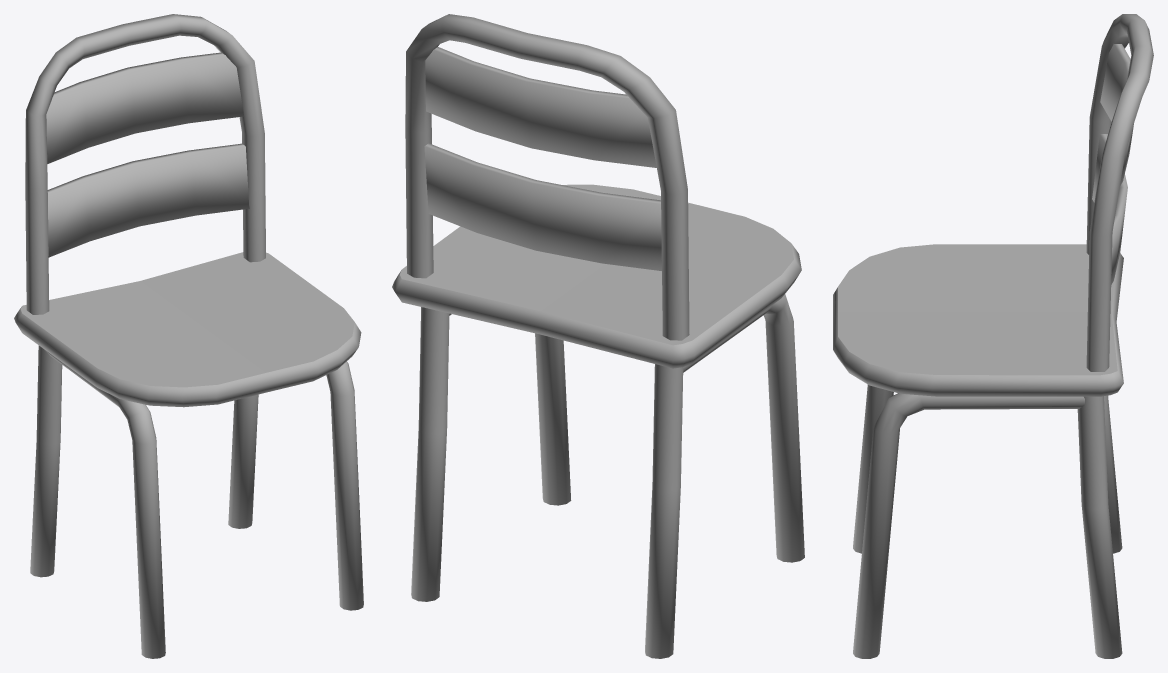
The model's file is chair_9.glb.
The picture shows the model from 3 angles, left to right: view 1: azimuth 30°, elevation 25°; view 2: azimuth 150°, elevation 25°; view 3: azimuth 270°, elevation 25°; orthographic projection. The views are drawn at different scales.
Visible parts, largest first — view 1: Chair (Outside); view 2: Chair (Outside); view 3: Chair (Outside).
Boxes of the visible parts, x1,y1,x2,y2 form: Chair (Outside): (14, 14, 363, 658); Chair (Outside): (392, 14, 804, 658); Chair (Outside): (833, 14, 1153, 658).
Bounding box in the file's own units: 0.5973 × 1.14 × 0.5982.
Materials: 1 (1 with a texture image).
